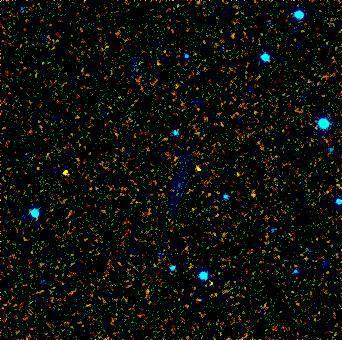star: (188, 151, 218, 181)
